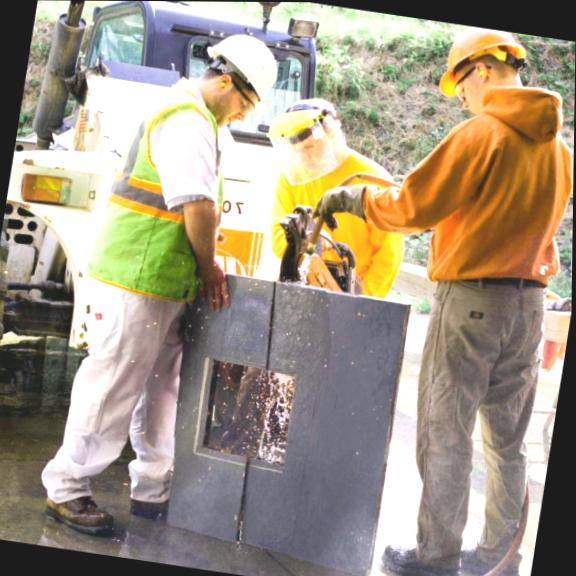no_safety_vest: (407, 81, 575, 316)
safety_vest: (77, 89, 248, 319)
